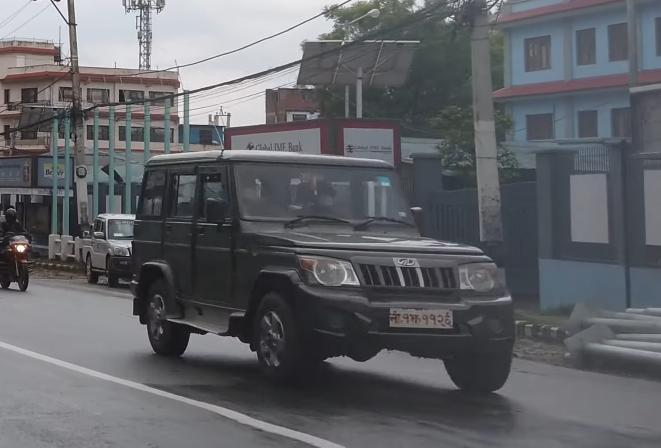SUV: (138, 154, 521, 393)
bike: (0, 226, 39, 300)
